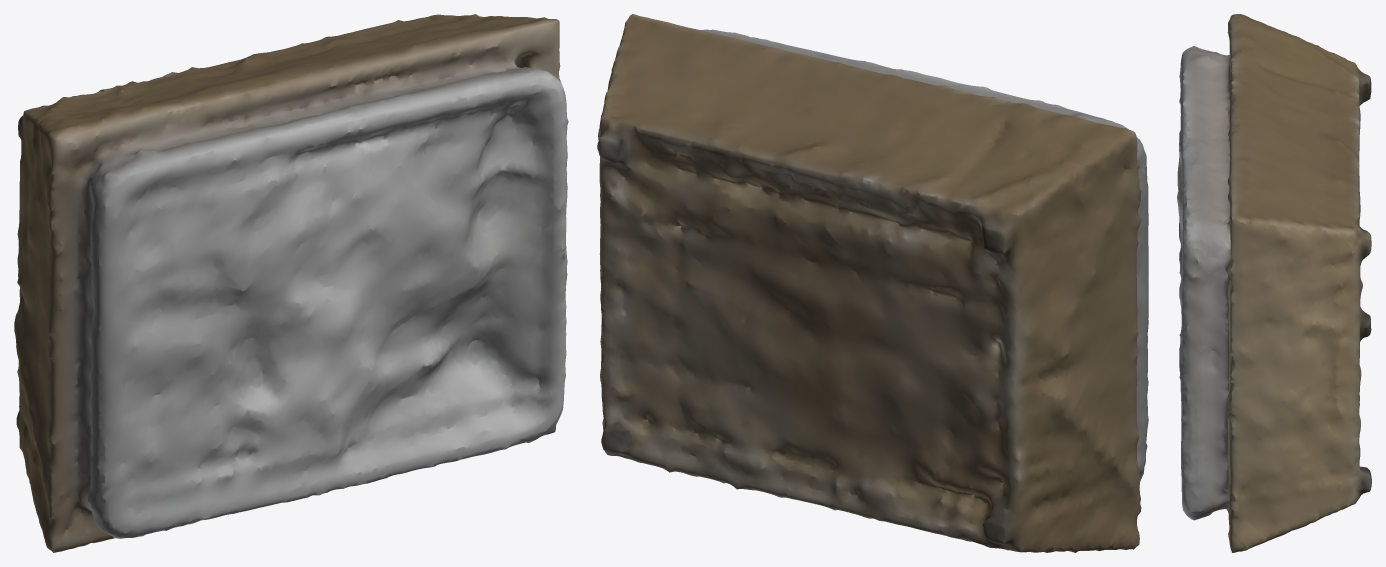
Rendered from soap.glb.
3 renders of one model, left to right at view 1: azimuth 30°, elevation 25°; view 2: azimuth 150°, elevation 25°; view 3: azimuth 270°, elevation 25°, orthographic. The views are drawn at different scales.
Size of the model in its own units: 0.995 by 0.7844 by 0.4031.
